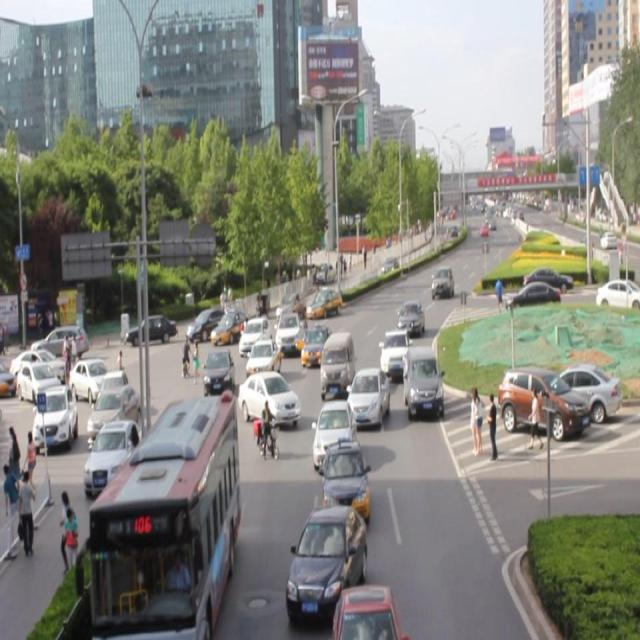car: (286, 502, 366, 613), (334, 580, 401, 640), (321, 440, 368, 519), (238, 368, 299, 425), (312, 400, 354, 470), (403, 345, 442, 415), (347, 366, 388, 428), (248, 334, 286, 378), (304, 316, 338, 362), (379, 330, 410, 380), (201, 345, 233, 393), (274, 307, 304, 357), (239, 317, 271, 359), (311, 279, 348, 315), (398, 298, 423, 336), (430, 265, 453, 298)
truck: (320, 332, 353, 389)
van: (88, 398, 238, 626)
